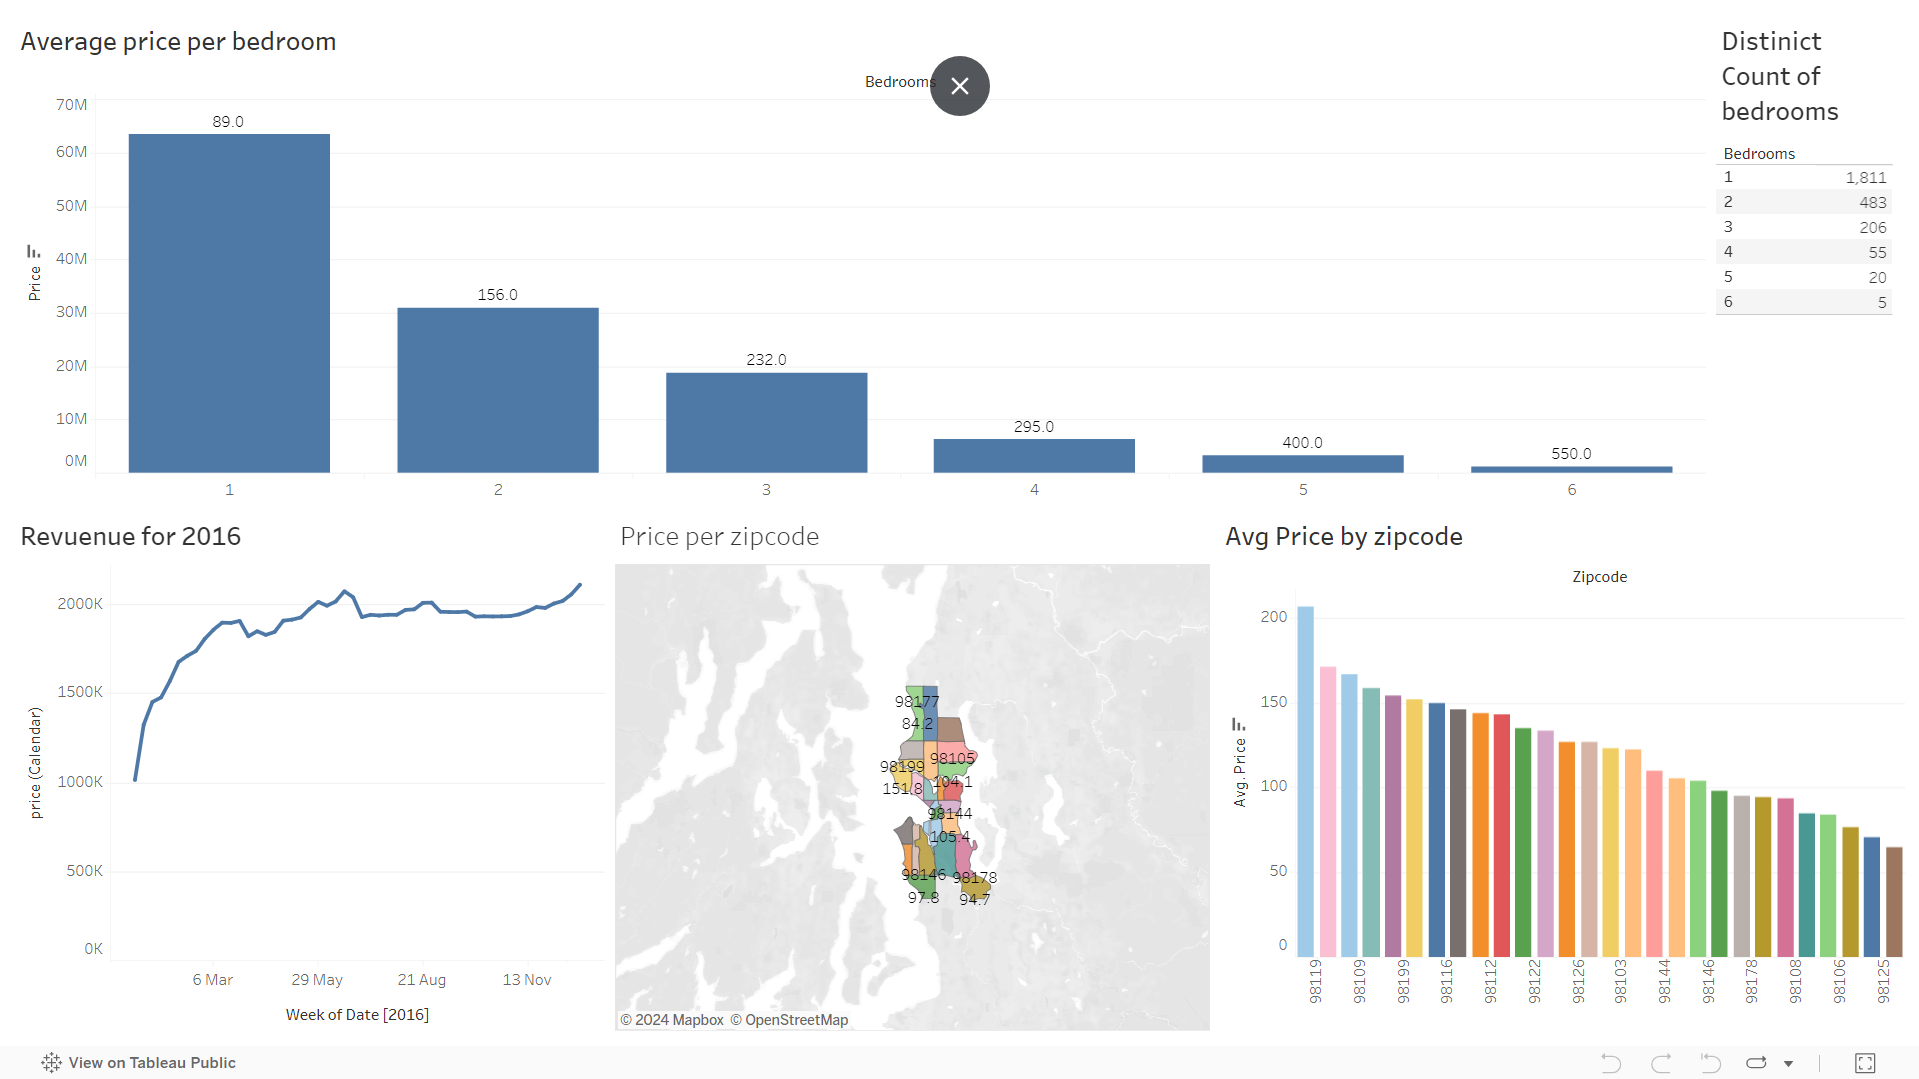

Layout of this report page (visuals, bound fields, positions):
{"tool":"tableau","page":{"name":"Dashboard 1","canvas":[1000,1000],"units":"permille","ordinal":0},"visuals":[{"type":"worksheet","title":"Sheet 4","mark":"Automatic","rows":["price"],"cols":["bedrooms"],"box":[4.7,10,886.9,473.2]},{"type":"worksheet","title":"Sheet 5","mark":"Automatic","rows":["bedrooms"],"box":[891.6,10,103.7,473.2]},{"type":"worksheet","title":"Sheet 3","mark":"Line","rows":["price (Calendar)"],"cols":["date"],"box":[4.7,483.2,312.8,506.9]},{"type":"worksheet","title":"Sheet 2","mark":"Multipolygon","box":[317.5,483.2,315.8,506.9]},{"type":"worksheet","title":"Sheet 1","mark":"Automatic","rows":["price"],"cols":["zipcode"],"box":[633.3,483.2,362,506.9]}]}

Visuals, with their boxes on the dashboard's canvas, which has no fixed pixel size, in thousandths of its width and height (x1, y1, x2, y2). These are canvas units, not pixel positions in the 1919x1079 screenshot, which may show the page scaled, cropped or inside an application window:
"Sheet 4" worksheet: <bbox>5, 10, 892, 483</bbox>
"Sheet 5" worksheet: <bbox>892, 10, 995, 483</bbox>
"Sheet 3" worksheet (Line marks): <bbox>5, 483, 318, 990</bbox>
"Sheet 2" worksheet (Multipolygon marks): <bbox>318, 483, 633, 990</bbox>
"Sheet 1" worksheet: <bbox>633, 483, 995, 990</bbox>
